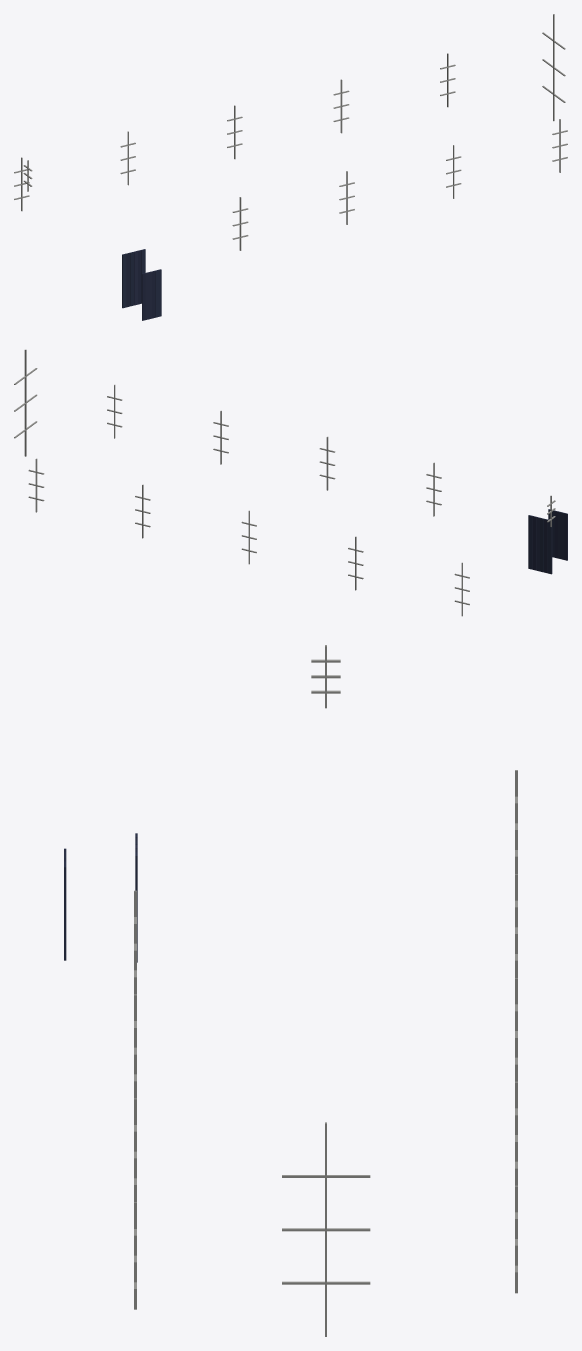
Rendered from SM_Bld_017_Wood.glb.
3 renders of one model, top to bottom at view 1: azimuth 30°, elevation 25°; view 2: azimuth 150°, elevation 25°; view 3: azimuth 270°, elevation 25°, orthographic. The views are drawn at different scales.
Parts seen in each view (by area): view 1: SM_Bld_017_Wood; view 2: SM_Bld_017_Wood; view 3: SM_Bld_017_Wood.
Part boxes in pixels (x1,y1,x2,y2): SM_Bld_017_Wood: (14, 14, 567, 320); SM_Bld_017_Wood: (14, 349, 567, 616); SM_Bld_017_Wood: (64, 645, 517, 1336).
Size of the model in its own units: 24.82 by 6.4 by 9.26.
